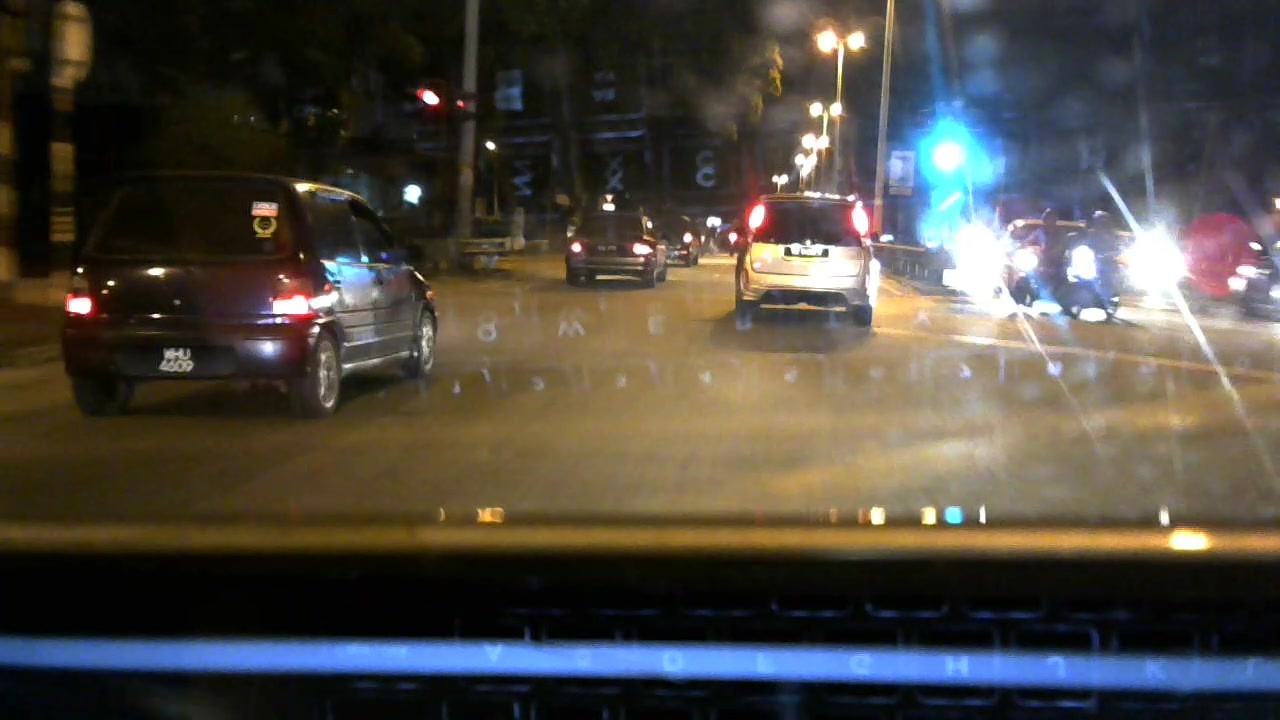Car: (60, 152, 443, 420), (724, 180, 895, 330), (562, 209, 679, 284), (650, 212, 702, 267)
